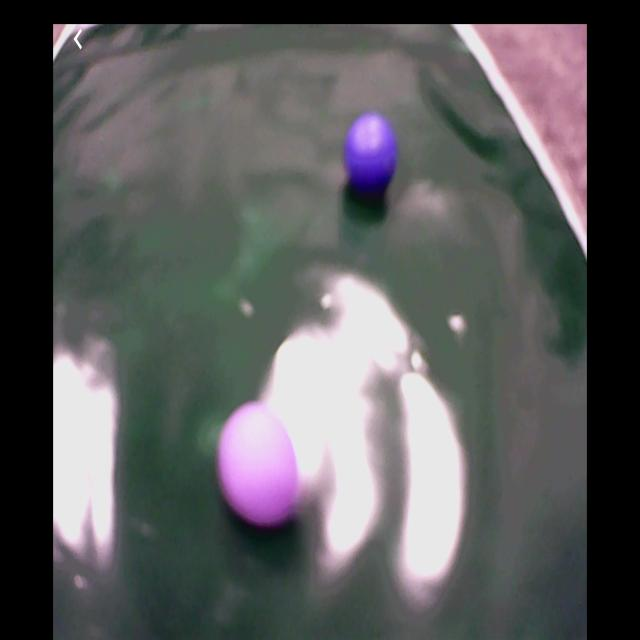ball: (219, 404, 301, 531), (345, 113, 398, 202)
